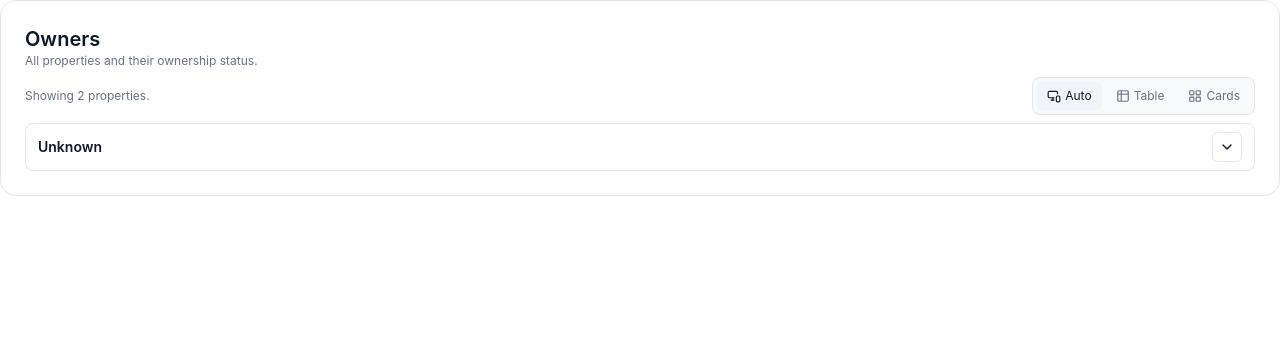
Scenario: OwnersManager › shows Edit button for every row (View/Delete are not yet implemented)
The image size is (1280, 345).
Click the button "Unknown" at (70, 146), box [25,123,1255,171]
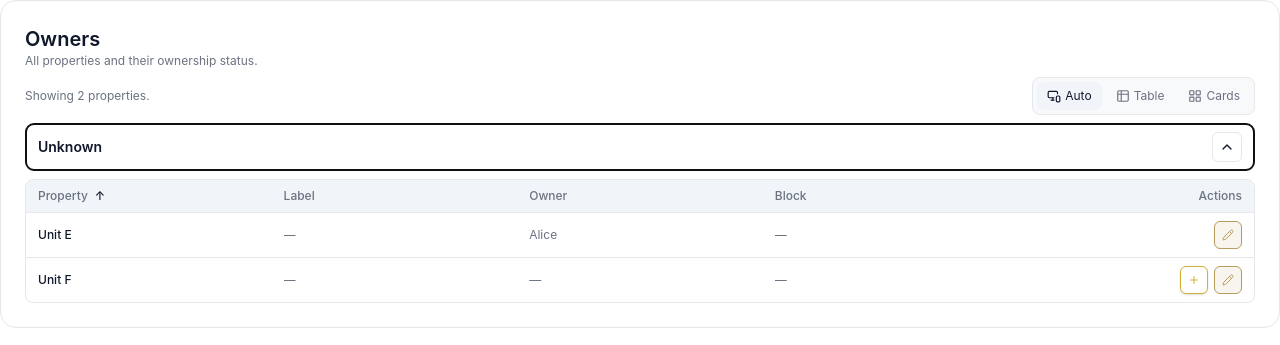
Expected: the button named "Edit owner" in the row of "Unit E" is shown, [1214,221,1242,249]
